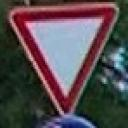preferencia: (9, 3, 121, 115)
